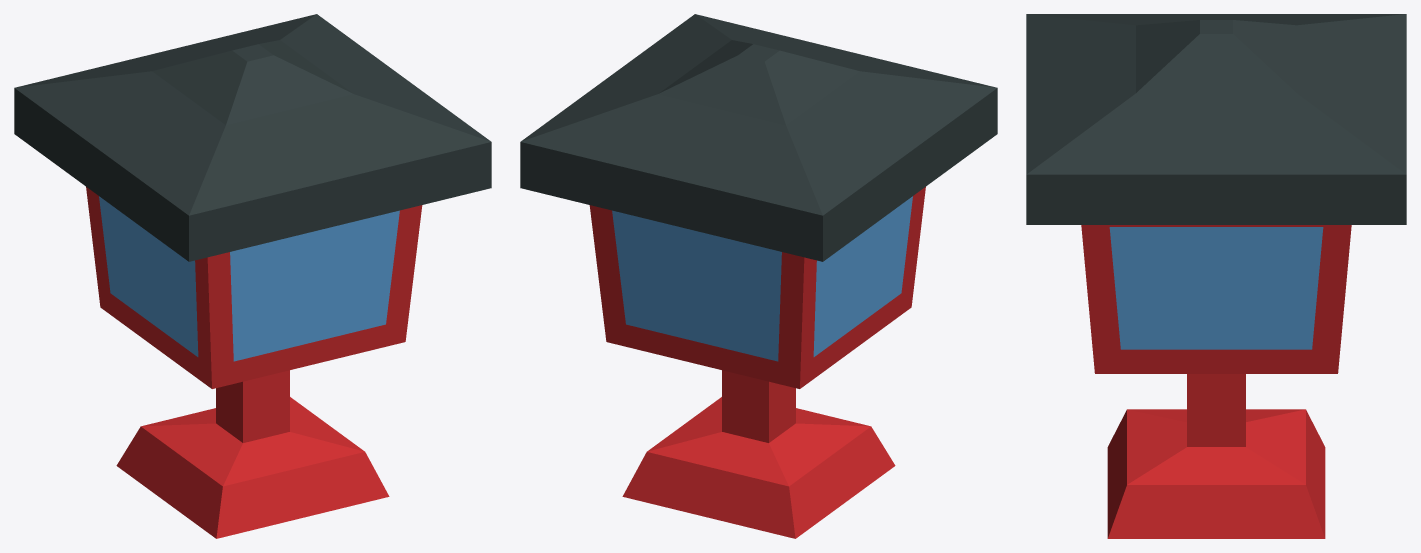
The model's file is Lampara.glb.
3 renders of one model, left to right at view 1: azimuth 30°, elevation 25°; view 2: azimuth 150°, elevation 25°; view 3: azimuth 270°, elevation 25°, orthographic. The views are drawn at different scales.
Visible parts, largest first — view 1: Lampara, Ventanas; view 2: Lampara, Ventanas; view 3: Lampara, Ventanas.
Part boxes in pixels (x1,y1,x2,y2): Lampara: [14, 14, 491, 538]; Ventanas: [99, 196, 399, 361]; Lampara: [520, 14, 997, 538]; Ventanas: [612, 196, 912, 361]; Lampara: [1026, 14, 1406, 538]; Ventanas: [1109, 227, 1323, 349].
Bounding box in the file's own units: 0.8237 × 1.11 × 0.8237.
